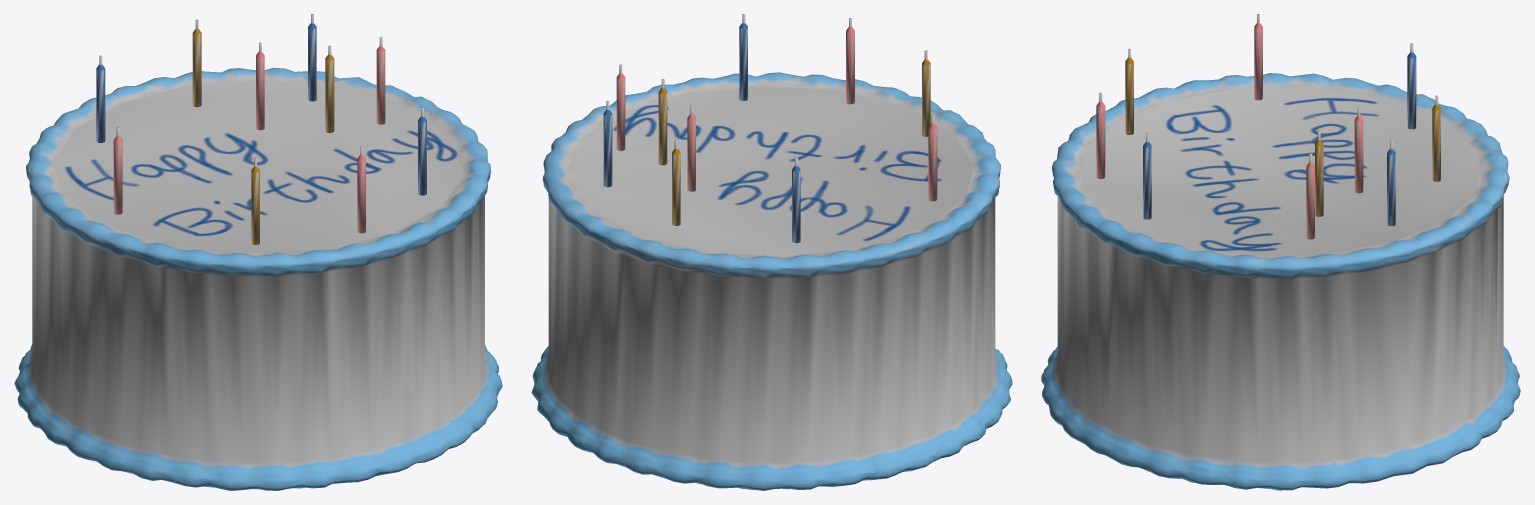
File: fo3_birthday_cake.glb
3 renders of one model, left to right at view 1: azimuth 30°, elevation 25°; view 2: azimuth 150°, elevation 25°; view 3: azimuth 270°, elevation 25°, orthographic.
Visible parts, largest first — view 1: Cylinder.002; view 2: Cylinder.002; view 3: Cylinder.002.
Boxes of the visible parts, x1=… form: Cylinder.002: x1=14, y1=14, x2=502, y2=490; Cylinder.002: x1=531, y1=14, x2=1012, y2=490; Cylinder.002: x1=1041, y1=14, x2=1520, y2=490.
Size of the model in its own units: 265 by 186 by 264.
Materials: 1 (1 with a texture image).
